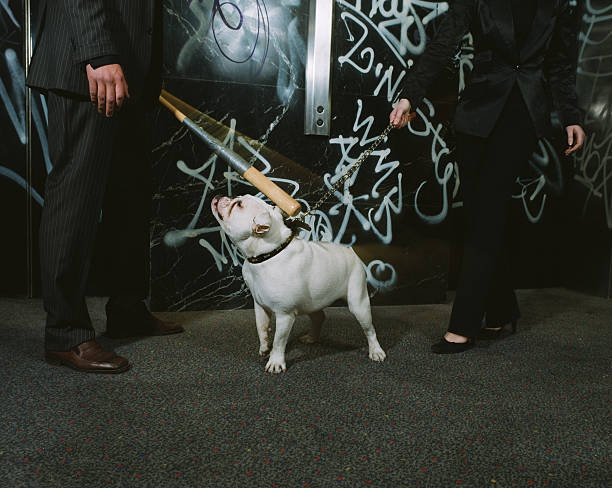bita: (158, 93, 301, 215)
